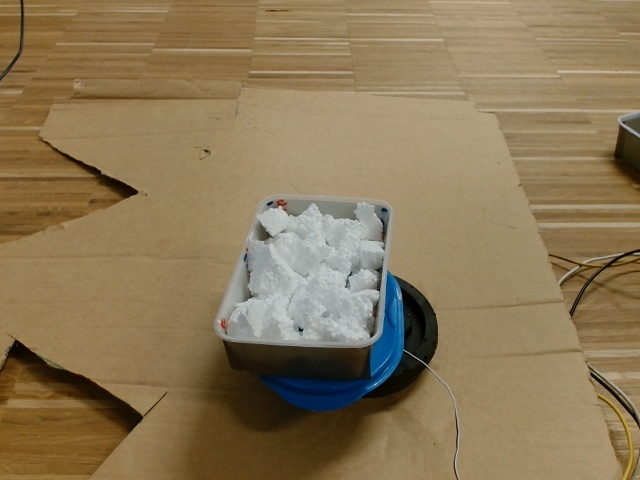Small_threequarter: (214, 191, 391, 351)
